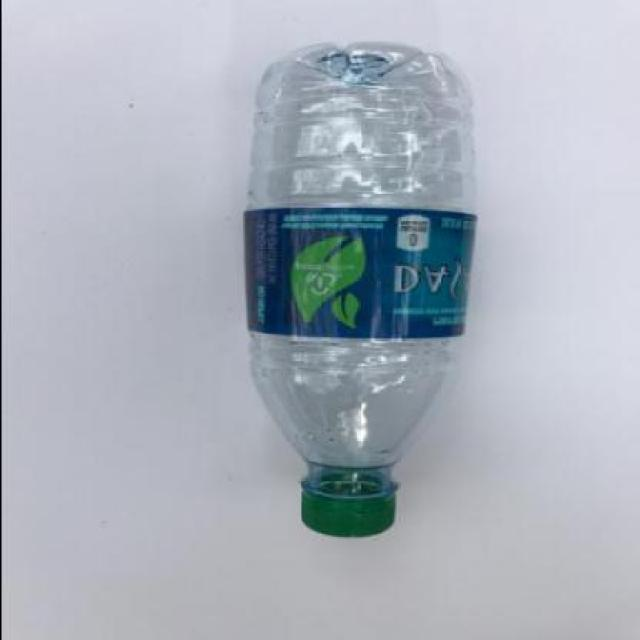PLASTIC: (240, 39, 475, 538), (238, 204, 476, 338), (297, 472, 398, 537)
